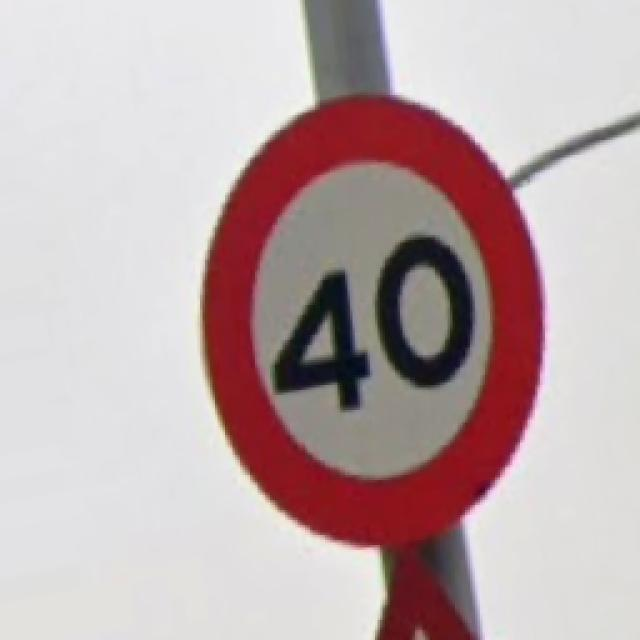Speed Limit -40-: (205, 95, 540, 542)
